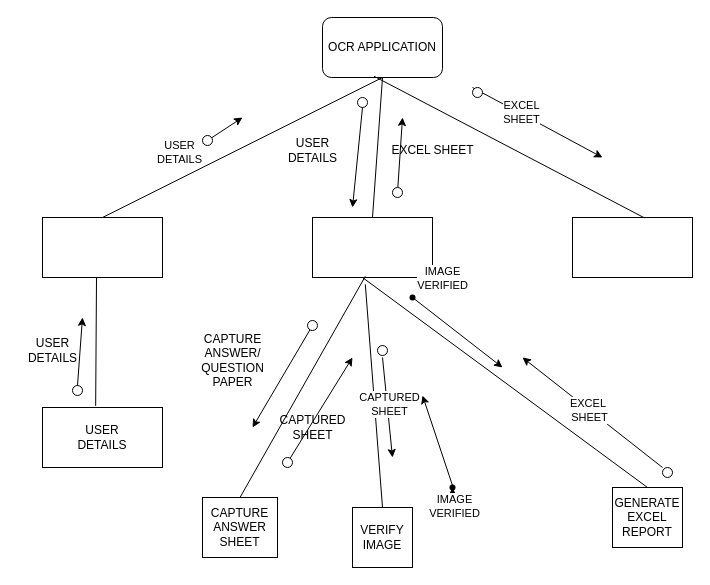
The diagram is 710 pixels wide and 585 high, and some of its shapes have lost their labels. Each missing label, with the box of its shape:
CAPTURE IMAGE: (312, 216, 432, 278)
GET USER DETAILS: (42, 216, 162, 278)
OUTPUT EXCEL REPORT: (572, 216, 692, 278)
